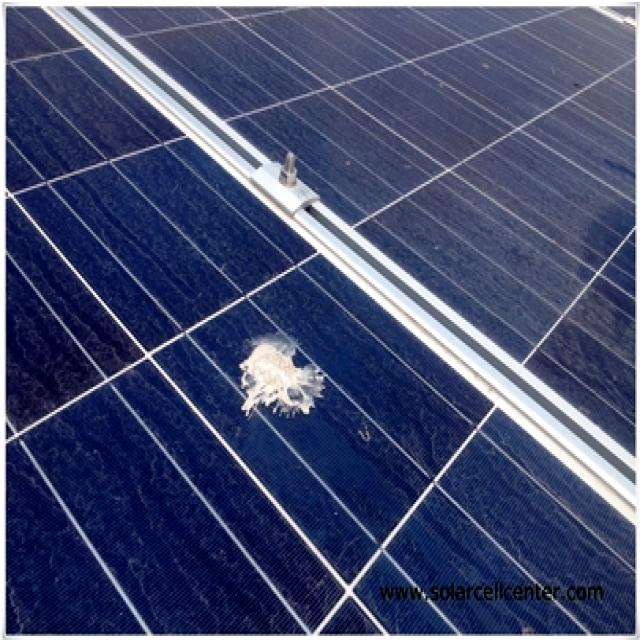bird: (224, 312, 330, 430)
